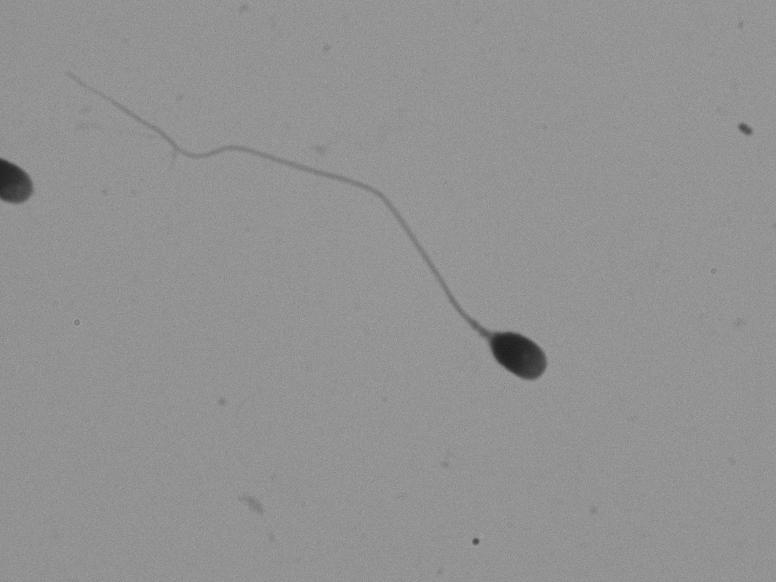Normal: (89, 90, 605, 424)
